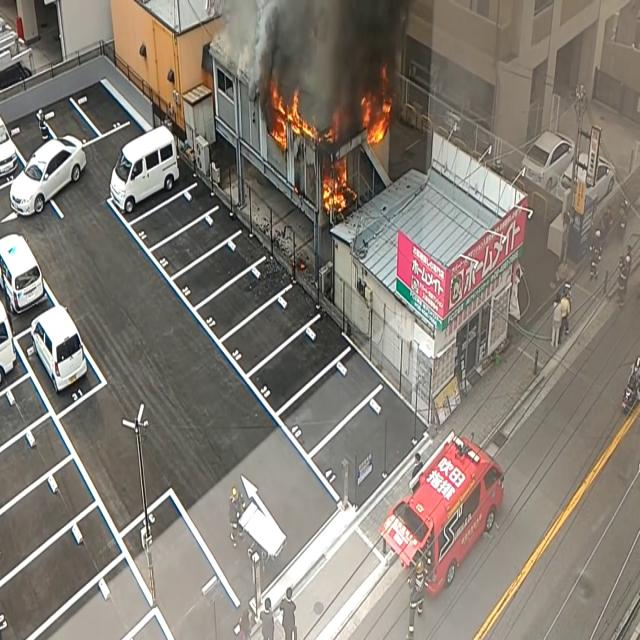Fire: (268, 83, 316, 149), (360, 82, 396, 154), (322, 156, 350, 216)
Smoke: (256, 0, 428, 119)
